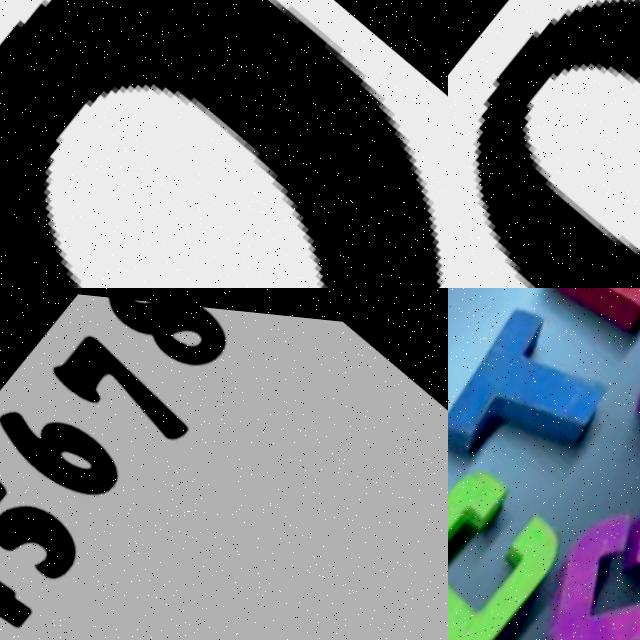4: (0, 494, 53, 640)
5: (0, 430, 100, 607)
6: (0, 359, 137, 524)
7: (23, 292, 218, 482)
8: (71, 290, 250, 400)
9: (448, 0, 640, 288)
C: (448, 437, 579, 640)
G: (515, 418, 640, 640)
T: (448, 288, 640, 525)
